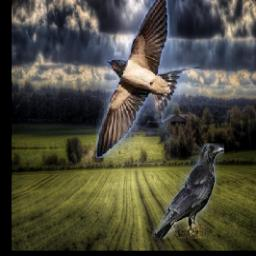Crow: (153, 144, 225, 240)
Swallow: (97, 0, 200, 159)
